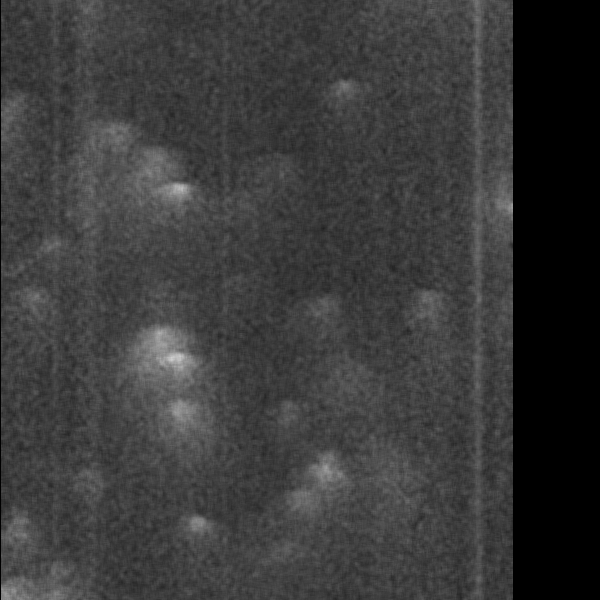spark: (128, 333, 215, 387), (301, 450, 347, 523), (152, 175, 194, 243), (413, 284, 442, 364), (176, 510, 218, 561), (73, 458, 111, 513), (1, 94, 19, 192), (15, 287, 49, 326), (1, 513, 34, 550), (36, 233, 71, 267), (331, 76, 358, 115)
